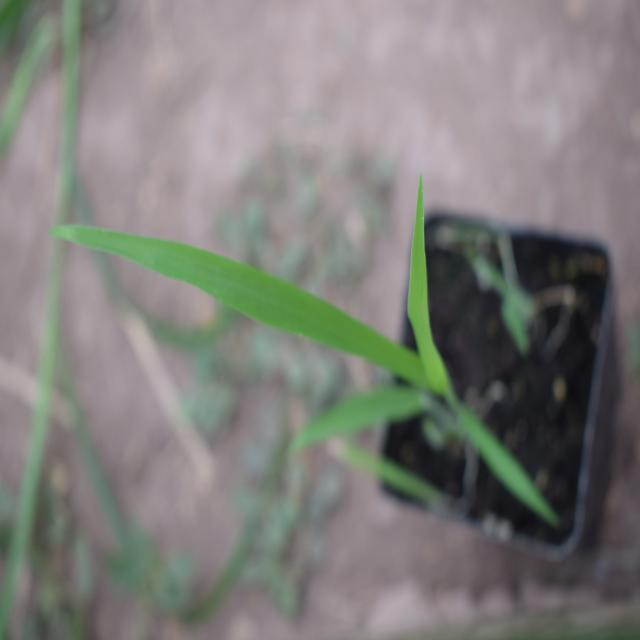crabgrass: (54, 160, 506, 492)
